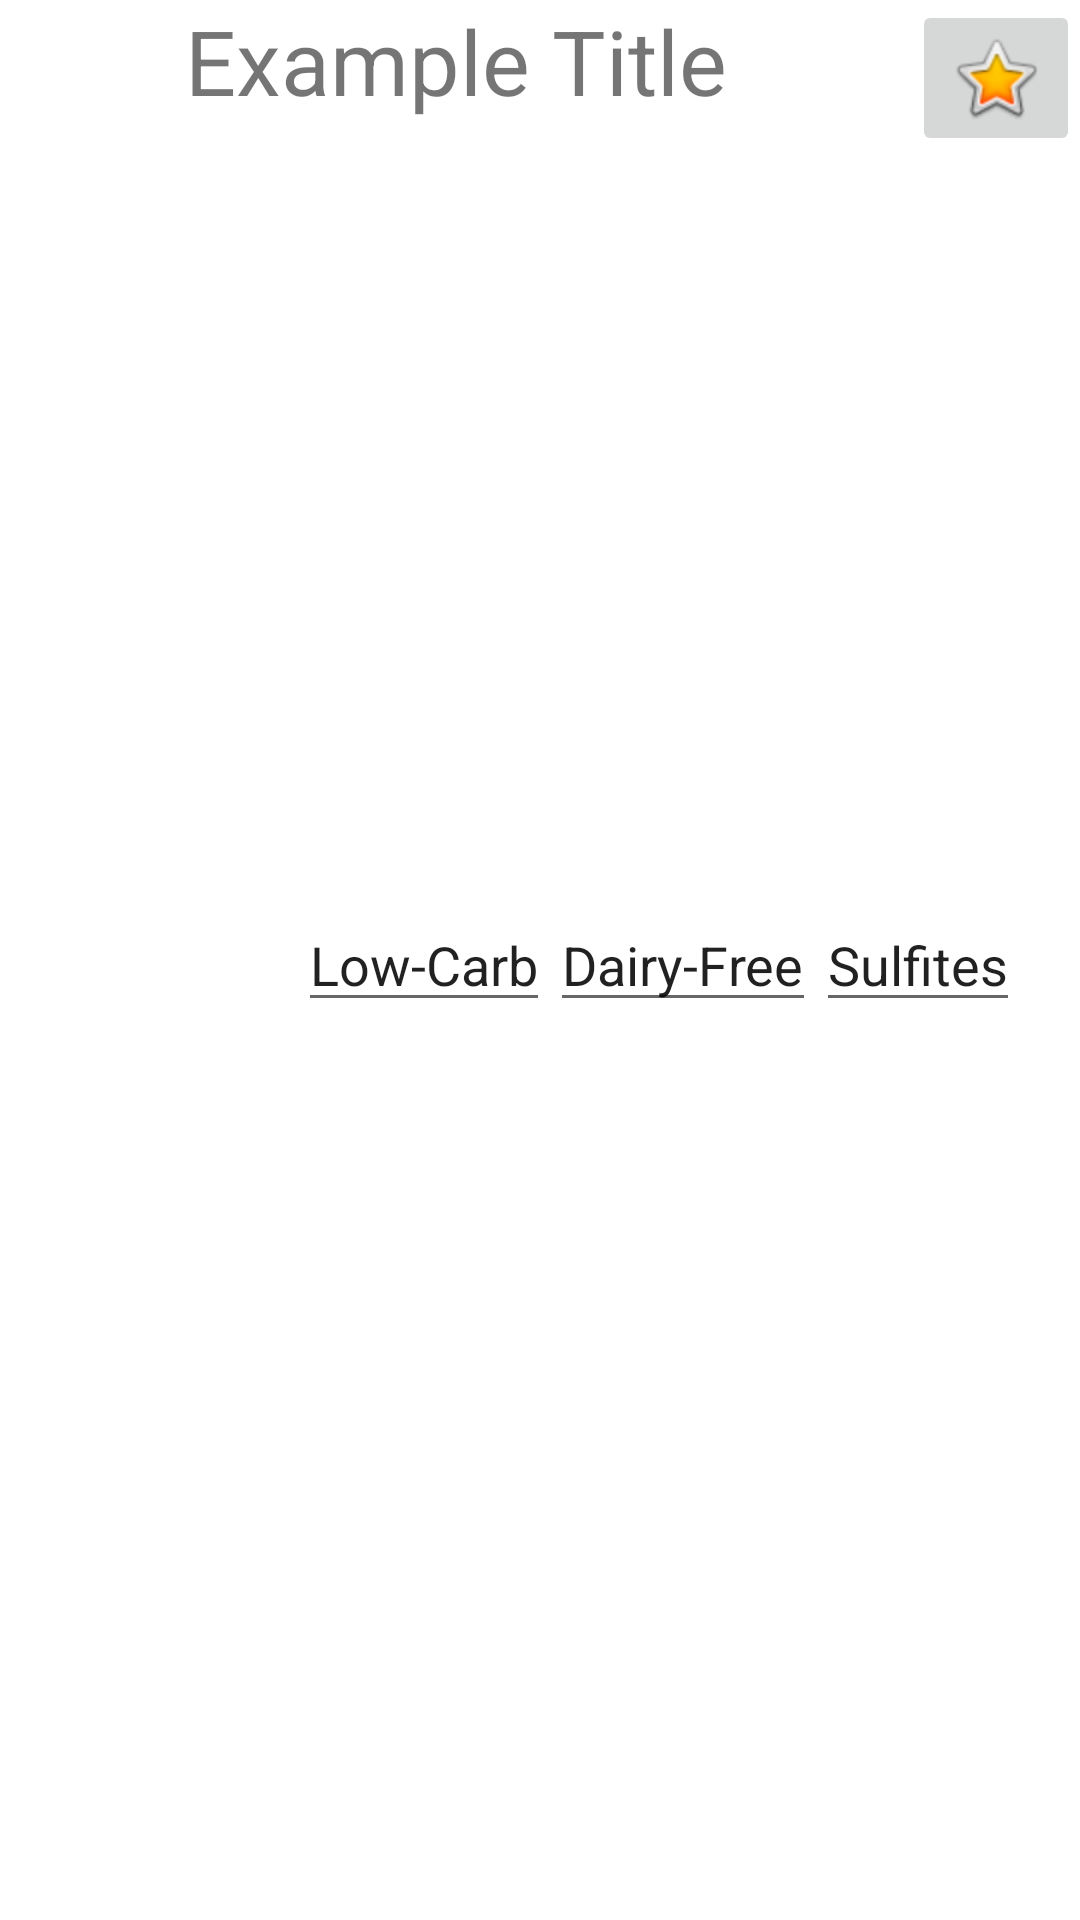

Icon bounding boxes for this 1080 x 1920 phone screenshot, format BBox(x1, y1, x2, y2):
star on: BBox(924, 18, 1068, 138)
